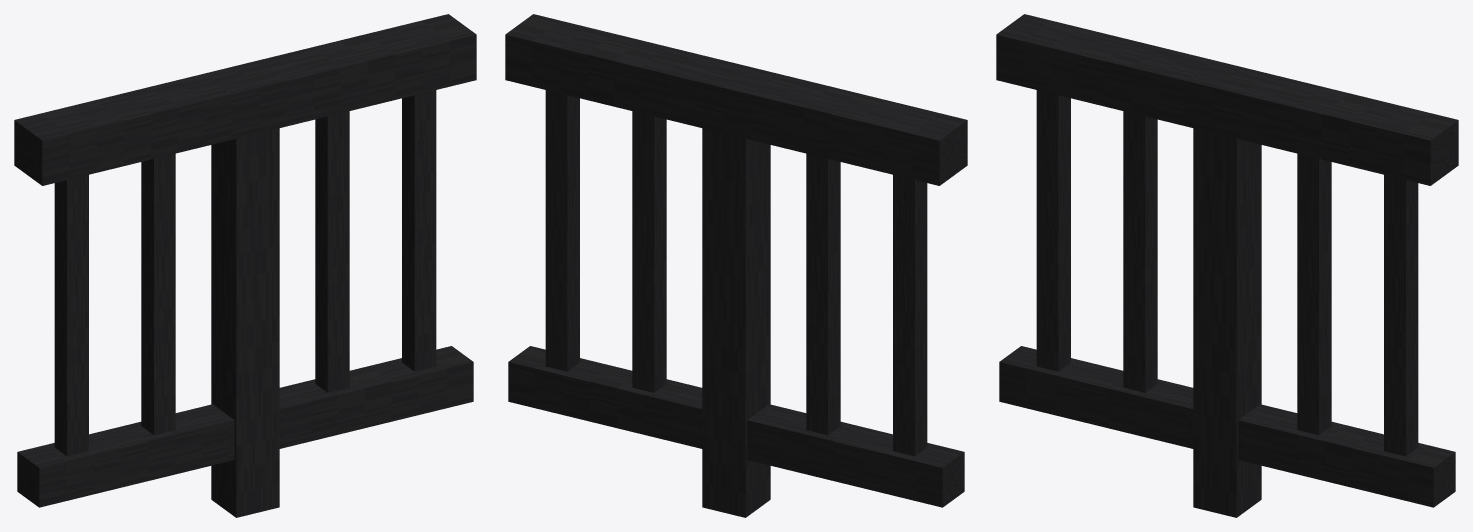
The model's file is level.obj.
3 views of the same model, side by side, from view 1: azimuth 30°, elevation 25°; view 2: azimuth 150°, elevation 25°; view 3: azimuth 330°, elevation 25° (orthographic).
Parts seen in each view (by area): view 1: railing_picket_black_level; view 2: railing_picket_black_level; view 3: railing_picket_black_level.
Part boxes in pixels (x1,y1,x2,y2): railing_picket_black_level: [14, 14, 476, 517]; railing_picket_black_level: [505, 14, 967, 517]; railing_picket_black_level: [996, 14, 1458, 517].
Size of the model in its own units: 1 by 0.9375 by 0.1125.
